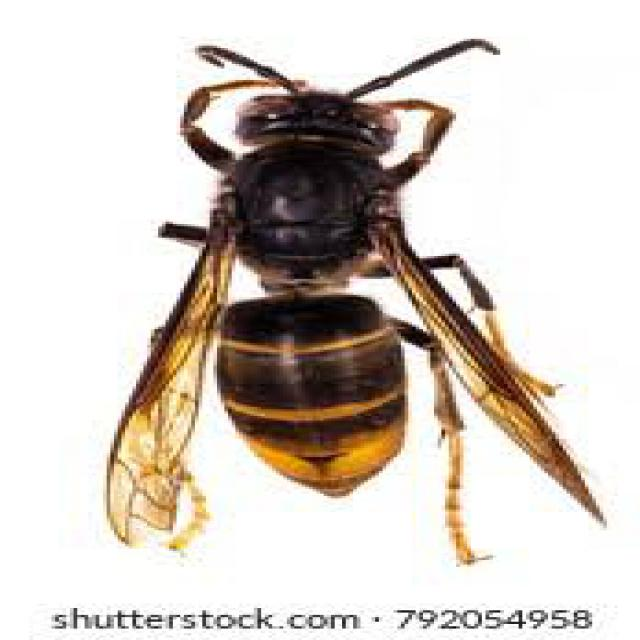Vespa Velutina: (83, 37, 640, 575)
